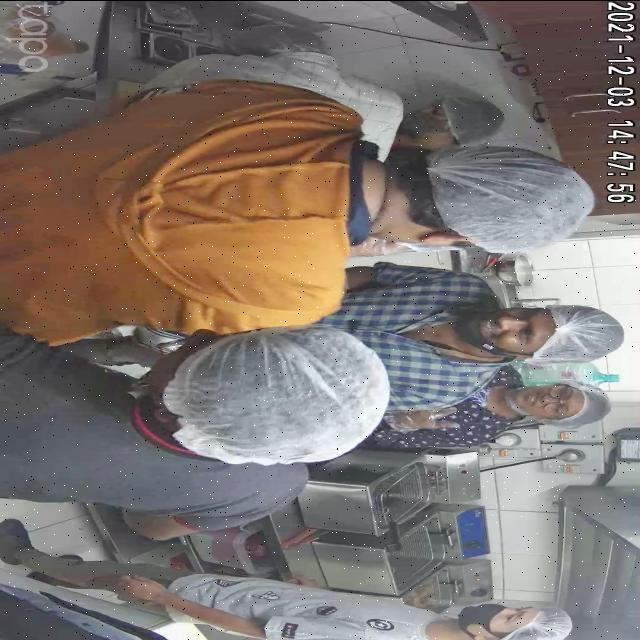gloves: (202, 343, 384, 462), (446, 174, 584, 244), (546, 314, 624, 368), (446, 94, 498, 156), (518, 610, 584, 640), (580, 383, 612, 427)
mask: (456, 602, 504, 626)
no_hairnet: (514, 373, 552, 421), (482, 314, 520, 348)
